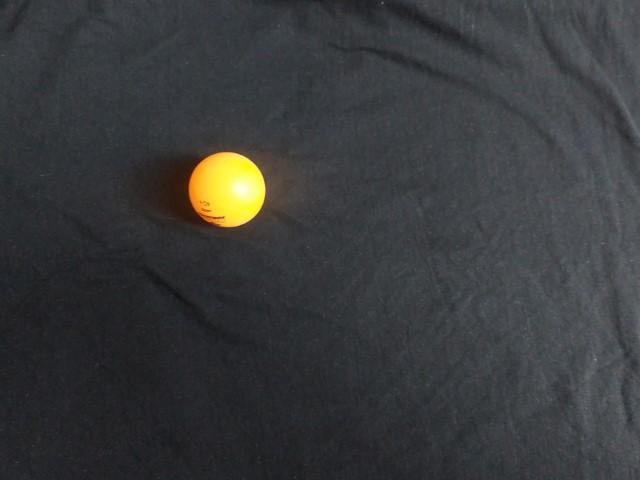oball: (184, 147, 270, 233)
